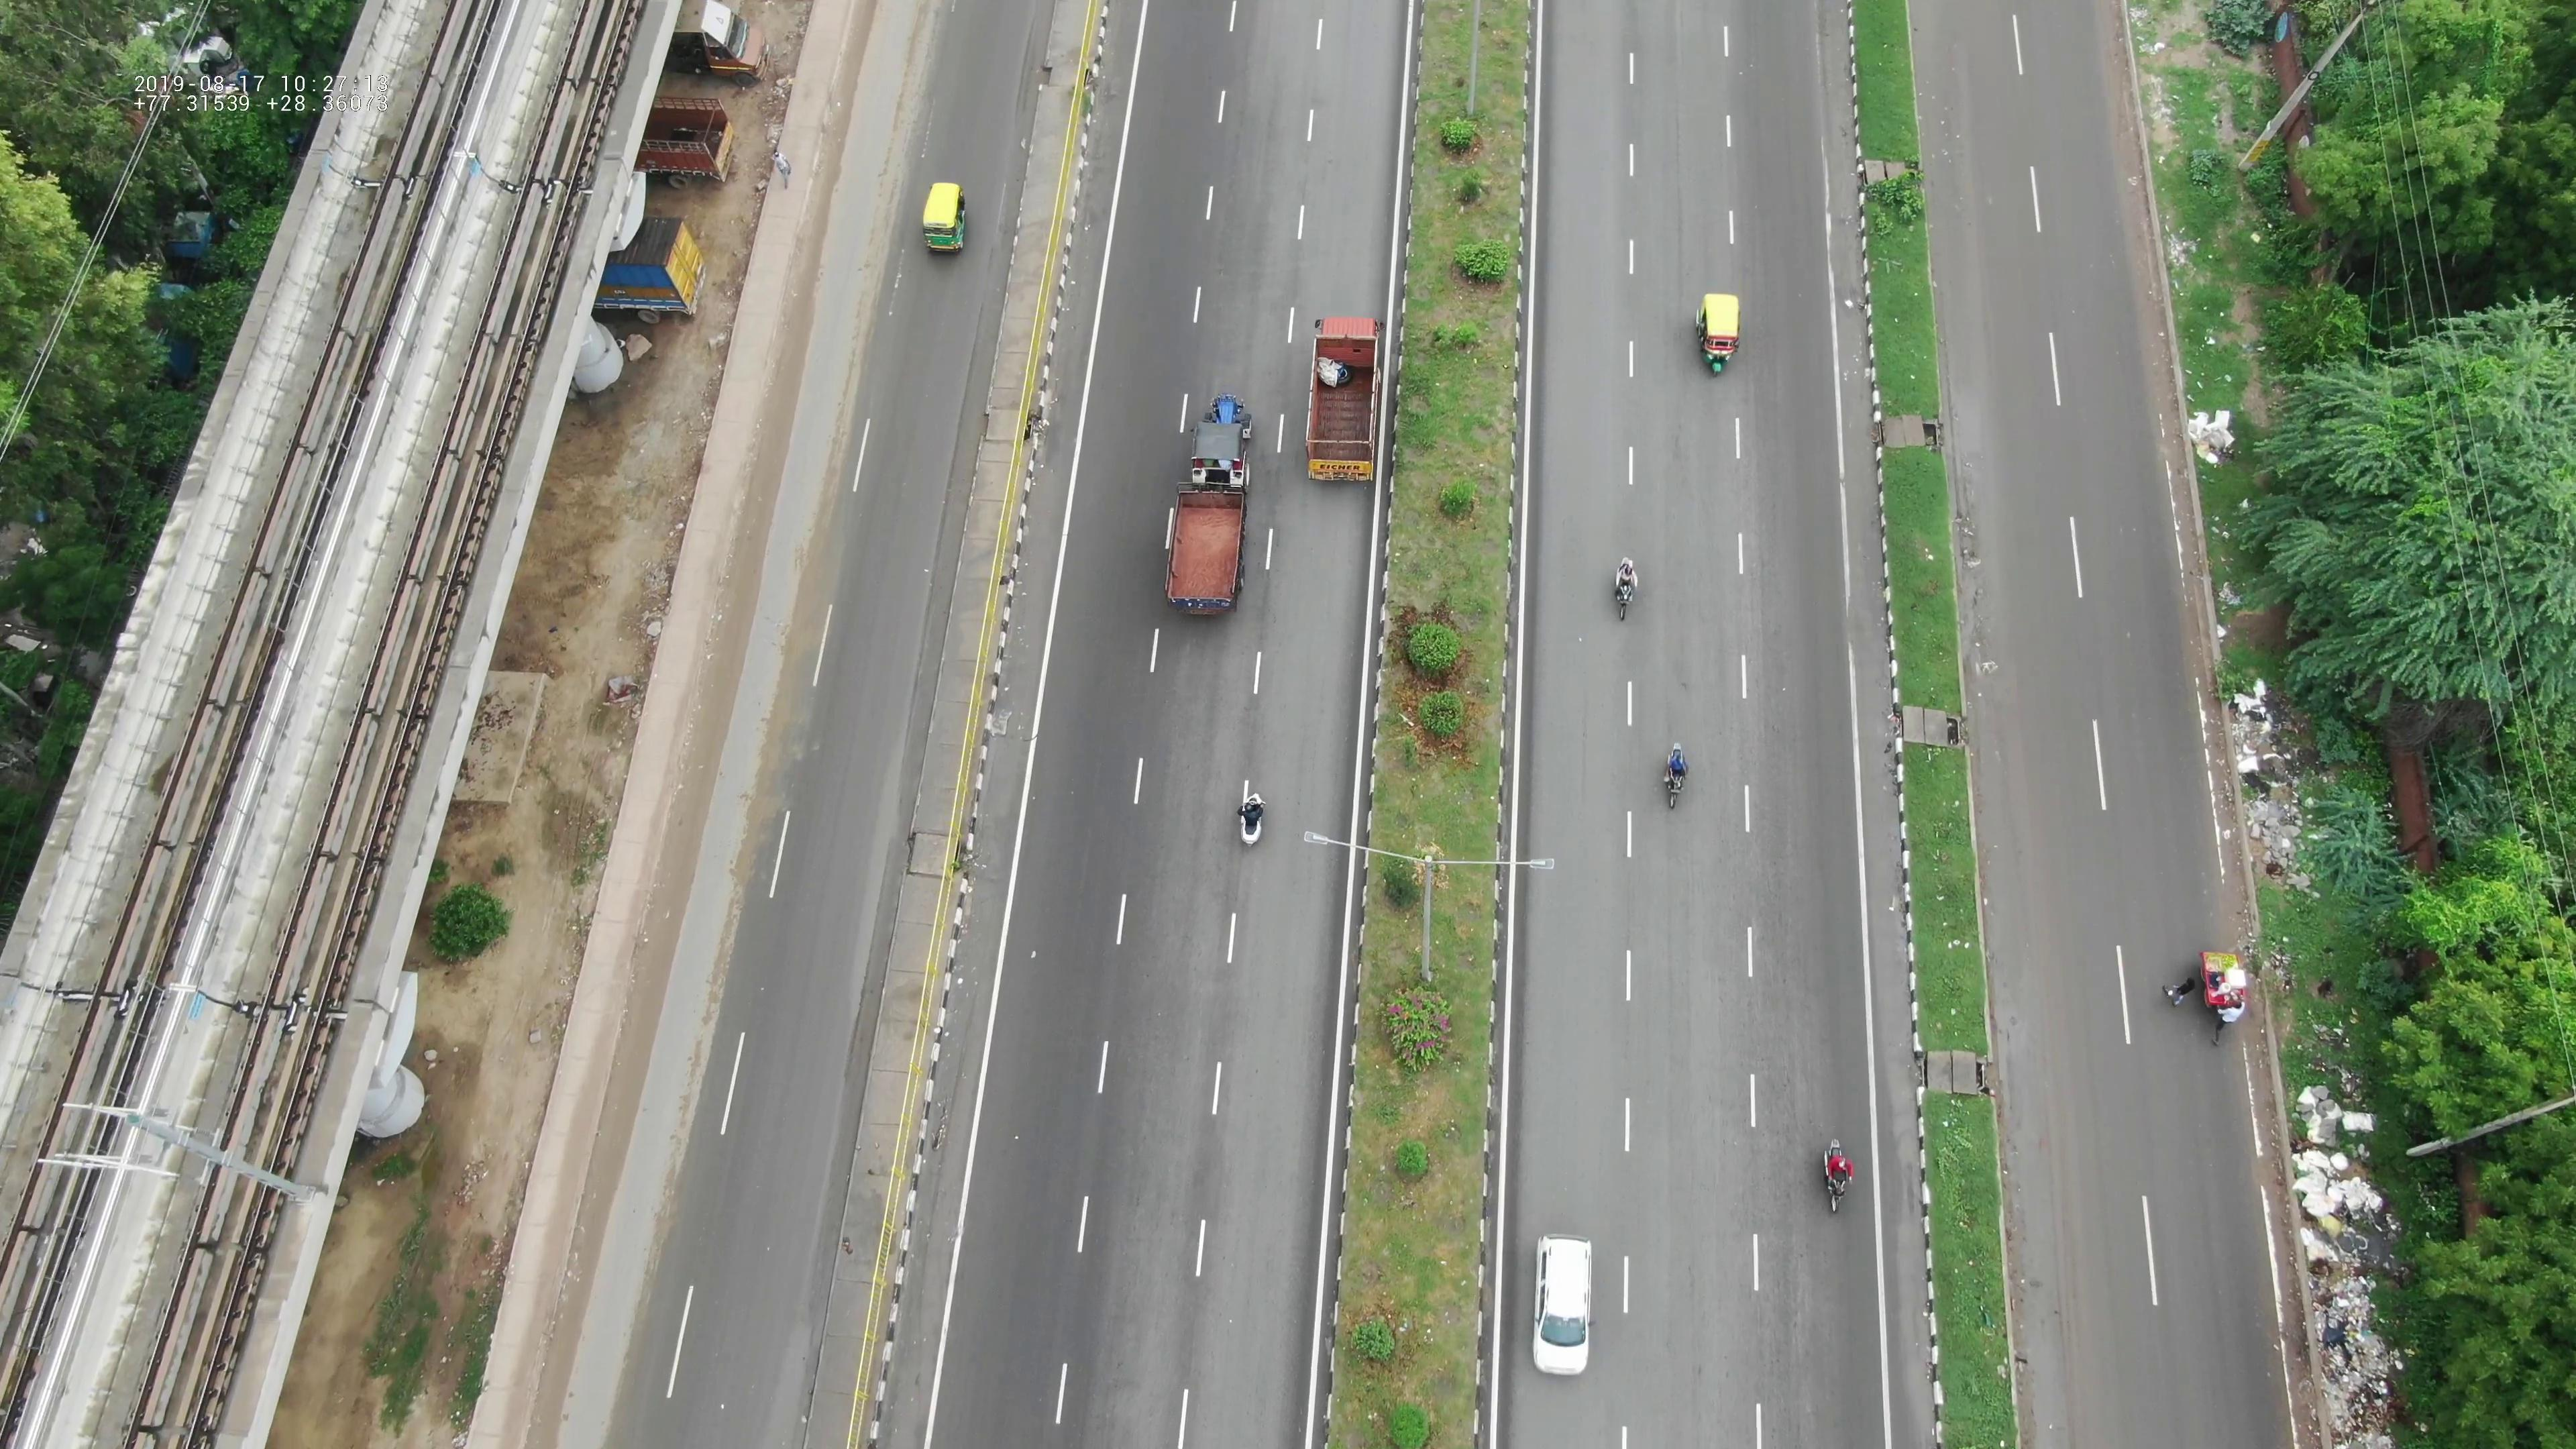Muddy_road: (731, 462, 865, 824)
Road_side_garbage: (2277, 1076, 2413, 1426), (2217, 648, 2367, 911)
